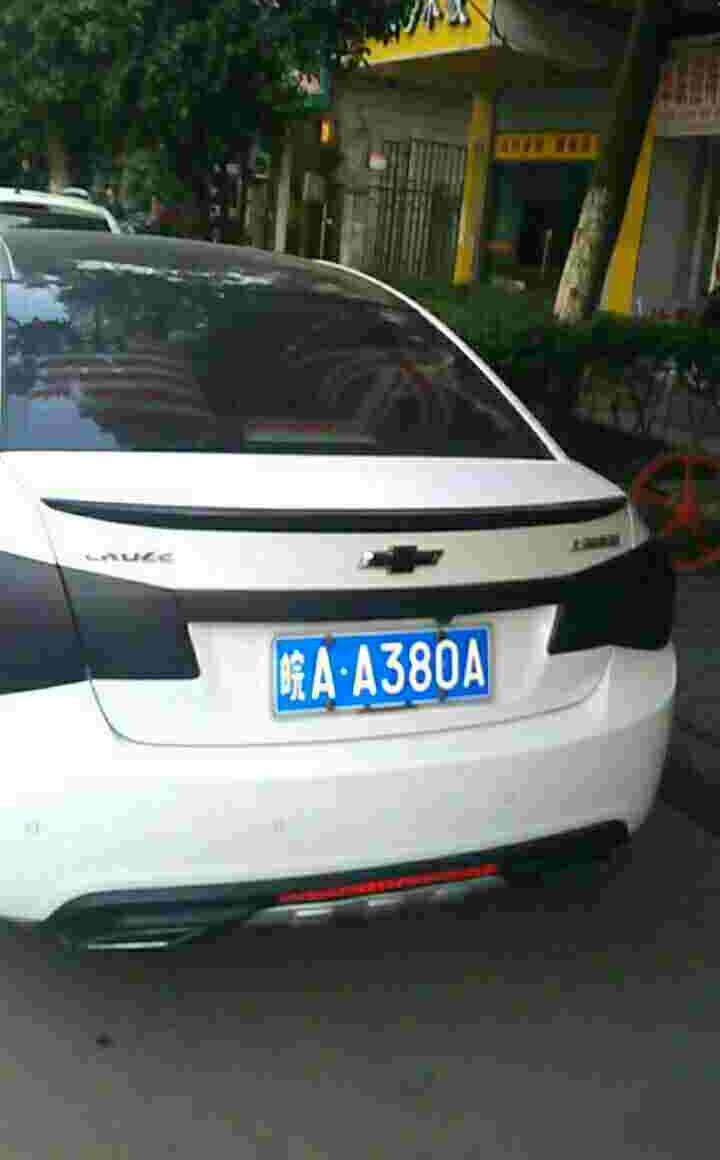plate: (280, 620, 497, 717)
